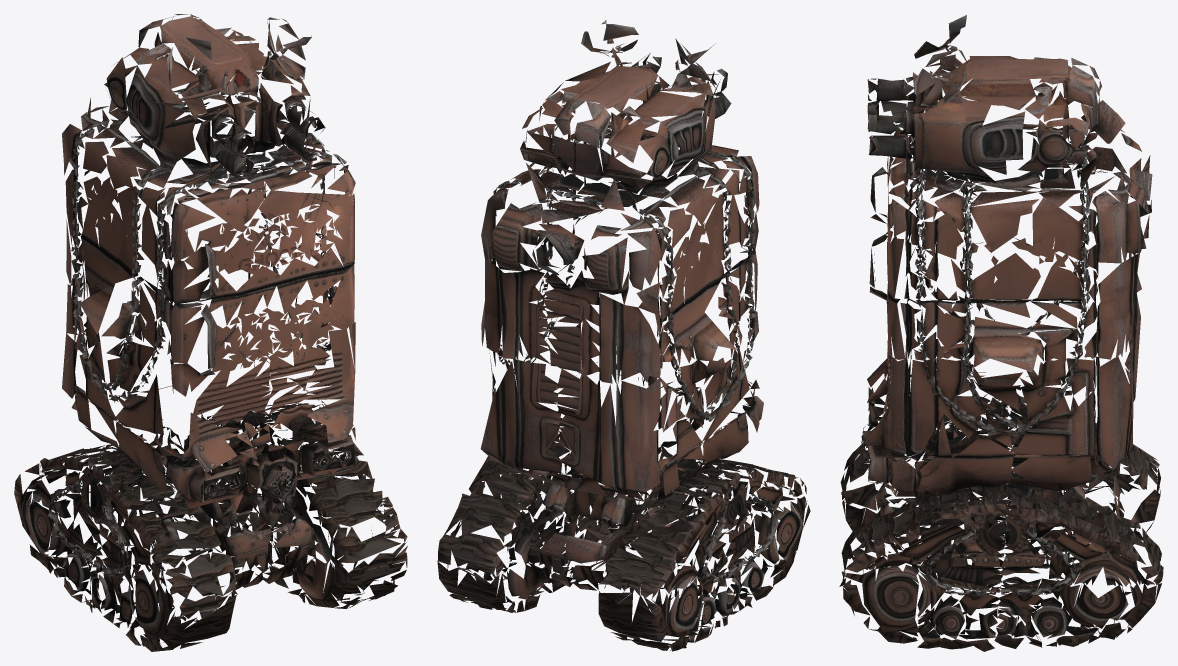
Rendered from konstrukt.glb.
The picture shows the model from 3 angles, left to right: view 1: azimuth 30°, elevation 25°; view 2: azimuth 150°, elevation 25°; view 3: azimuth 270°, elevation 25°; orthographic projection. The views are drawn at different scales.
Visible parts, largest first — view 1: mesh_node; view 2: mesh_node; view 3: mesh_node.
Boxes of the visible parts, x1,y1,x2,y2 form: mesh_node: (14, 14, 407, 651); mesh_node: (437, 20, 810, 651); mesh_node: (839, 15, 1163, 651).
Bounding box in the file's own units: 0.5673 × 1.2 × 0.625.
Materials: 1 (1 with a texture image).
